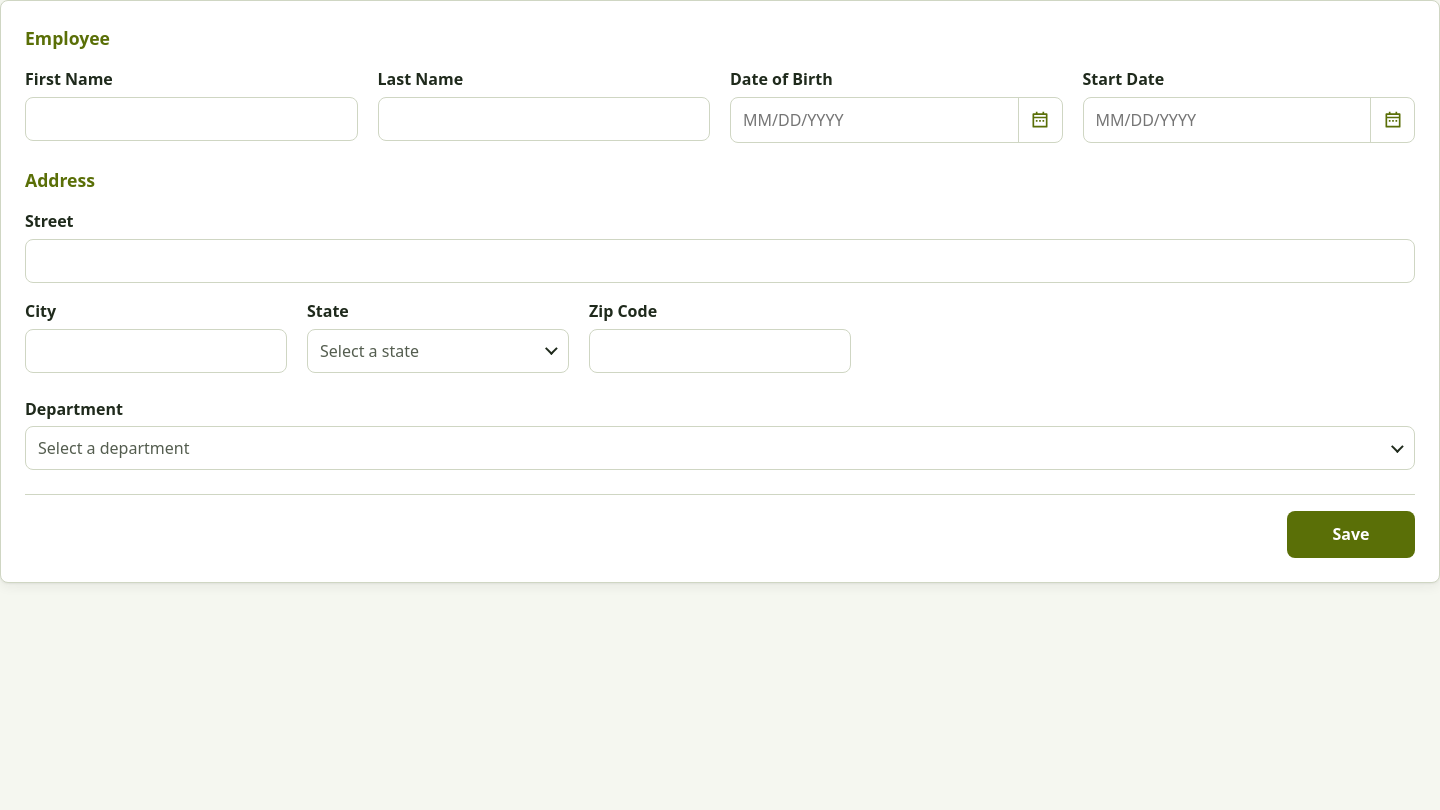
Test case: EmployeeForm › updates the errors while the user fixes them
The image size is (1440, 810).
Click the button "Save": [1351, 534] box [1287, 511, 1415, 558]
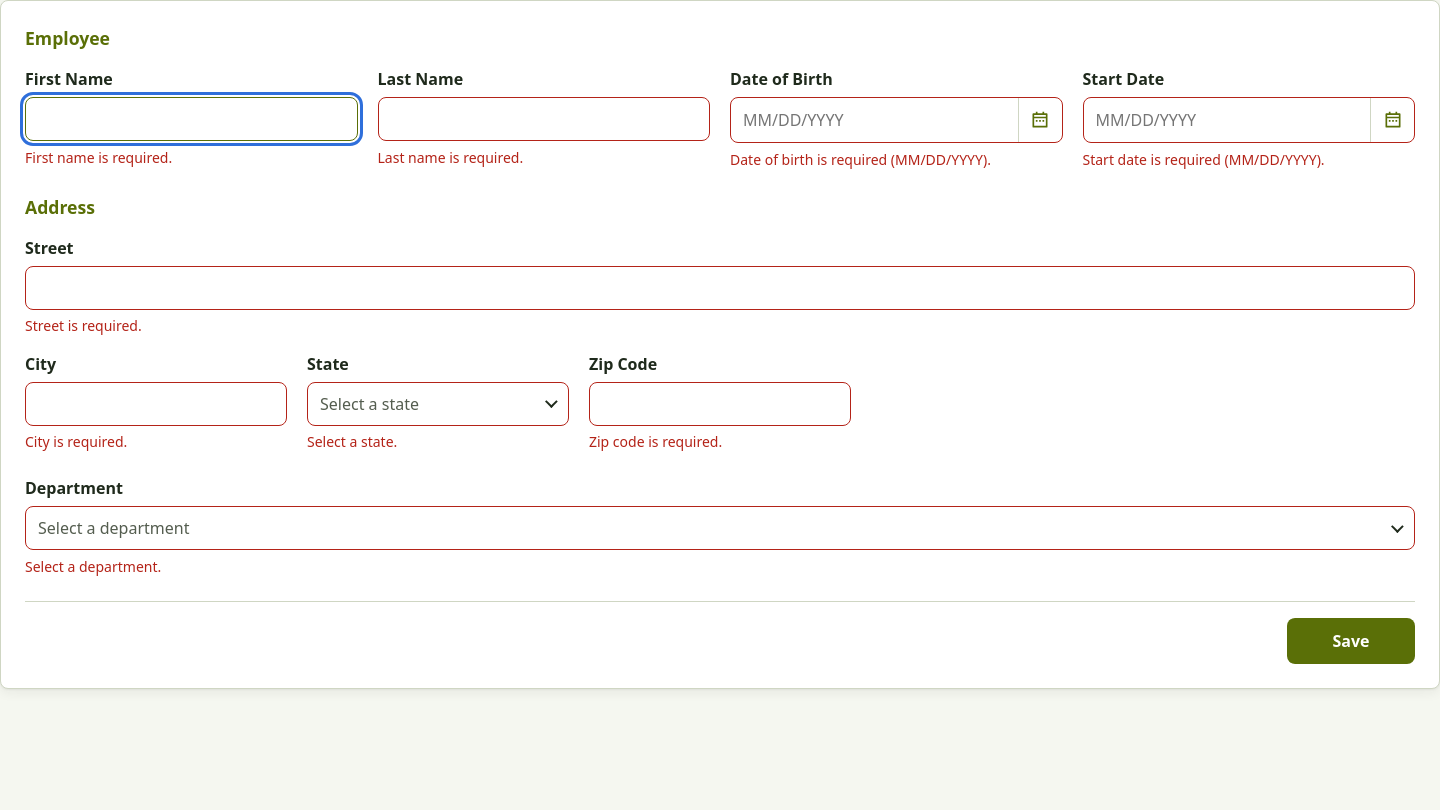
Result: the text "First name is required." is shown at [25, 148, 172, 167]
In the field labelled "First Name": [191, 119] box [25, 97, 358, 141], type "Ada"
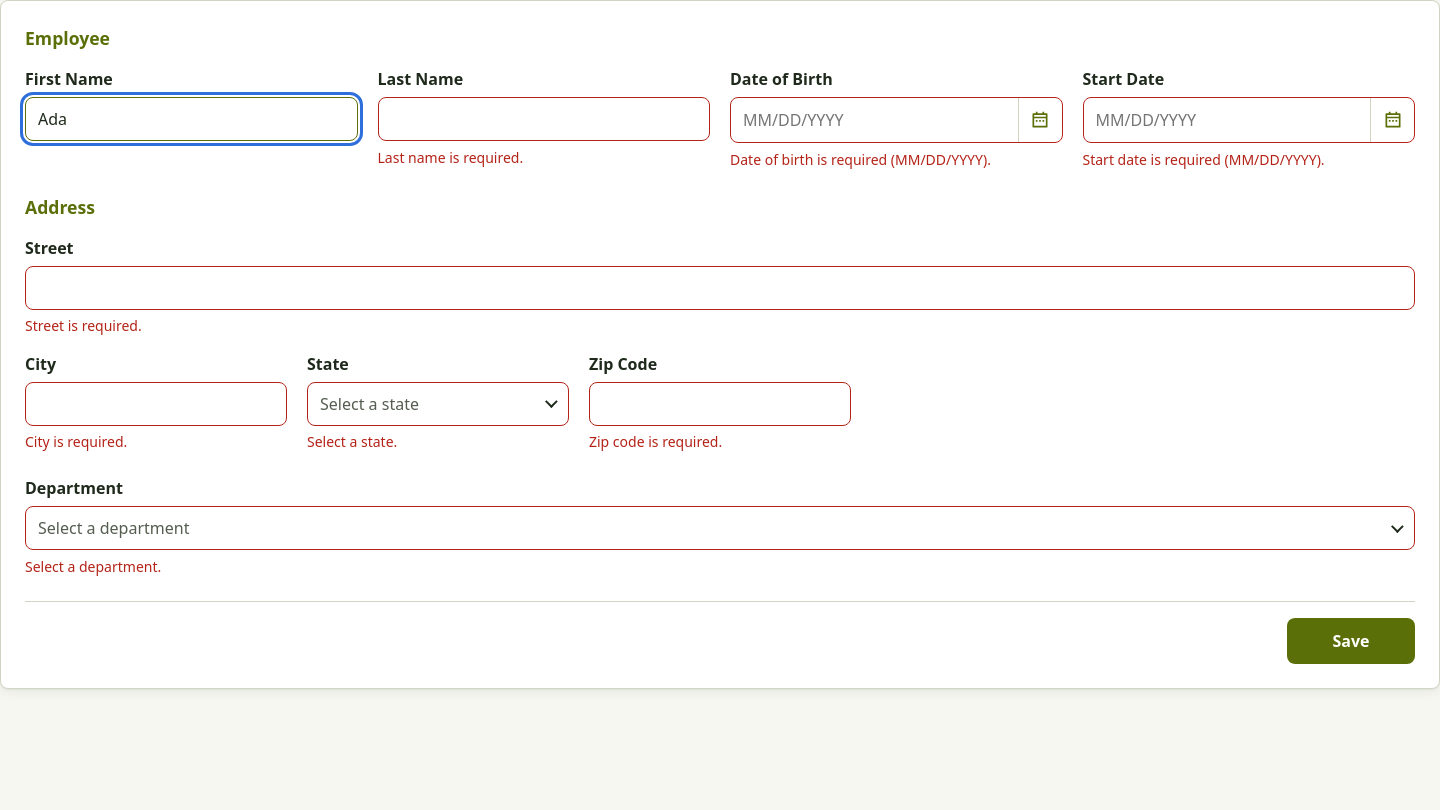
Result: the text "First name is required." is gone
